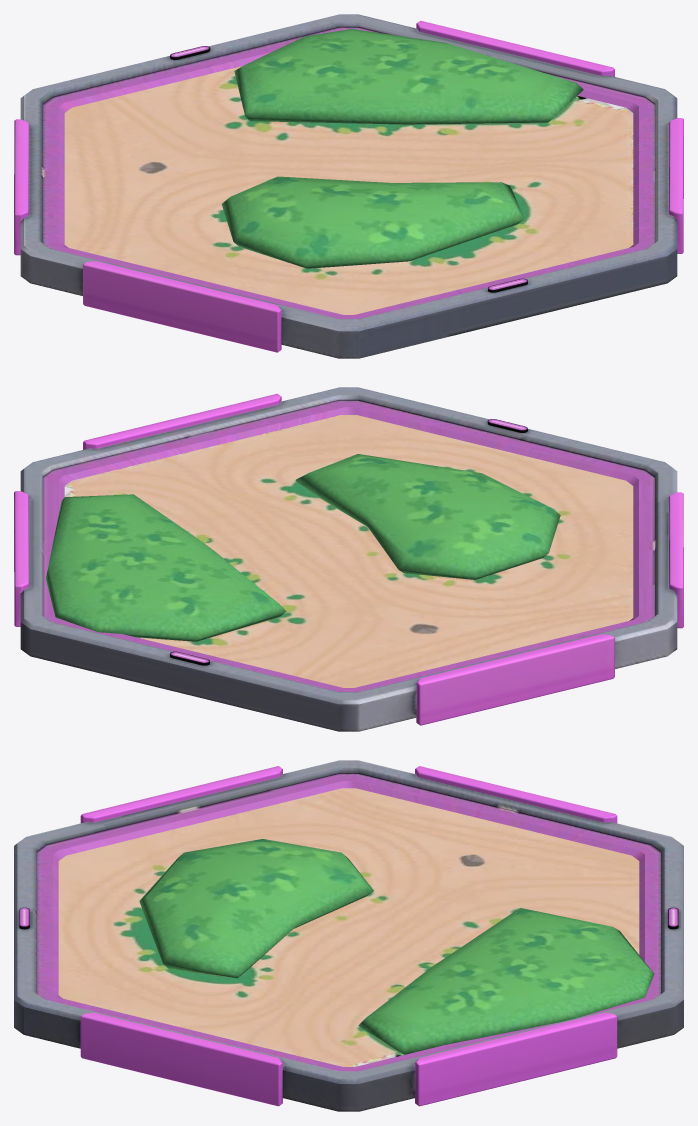
The model's file is hexagon-large-vip03-art.glb.
The picture shows the model from 3 angles, top to bottom: view 1: azimuth 30°, elevation 25°; view 2: azimuth 150°, elevation 25°; view 3: azimuth 270°, elevation 25°; orthographic projection. The views are drawn at different scales.
Parts seen in each view (by area): view 1: HexagonLargeVIP03_Art; view 2: HexagonLargeVIP03_Art; view 3: HexagonLargeVIP03_Art.
Part boxes in pixels (x1,y1,x2,y2): HexagonLargeVIP03_Art: [14, 14, 683, 358]; HexagonLargeVIP03_Art: [14, 387, 683, 731]; HexagonLargeVIP03_Art: [14, 760, 683, 1111].
Size of the model in its own units: 31.52 by 2.64 by 27.7.
2 materials, 2 textured.
